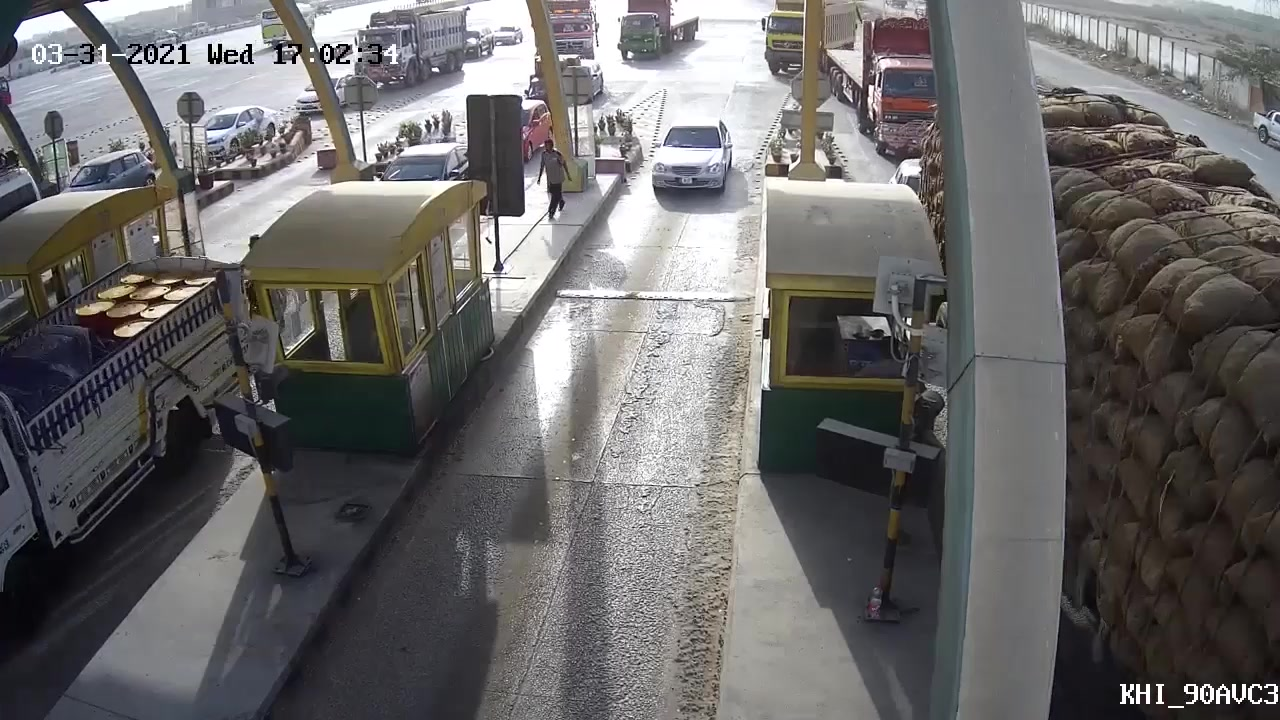F1: (639, 109, 734, 198)
